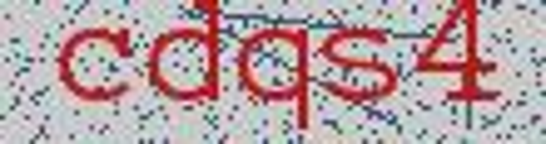4: (409, 1, 507, 115)
c: (52, 20, 134, 111)
d: (143, 1, 225, 111)
q: (233, 18, 315, 144)
s: (319, 21, 401, 106)
